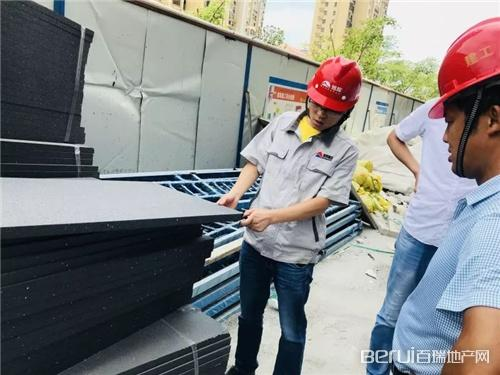Helmet: (305, 56, 361, 129)
